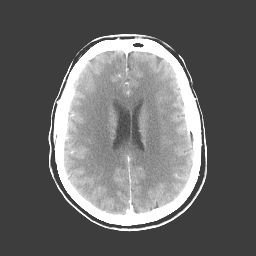ischemic: (99, 104, 116, 157)
